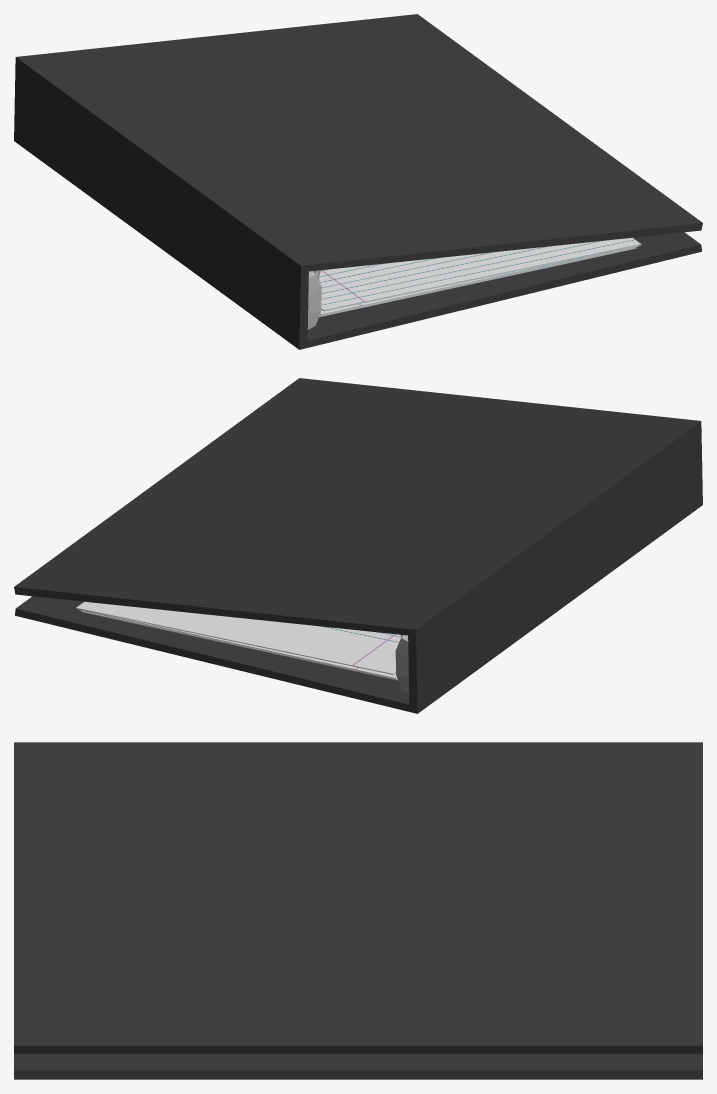
Rendered from Binder Black.fbx.
The picture shows the model from 3 angles, top to bottom: view 1: azimuth 30°, elevation 25°; view 2: azimuth 150°, elevation 25°; view 3: azimuth 270°, elevation 25°; orthographic projection. The views are drawn at different scales.
Parts seen in each view (by area): view 1: Binder Black, Paper.003, Paper.002, Binder Metal segment, Paper.001; view 2: Binder Black, Paper.003, Paper.002, Binder Metal segment, Paper.001; view 3: Binder Black.
Boxes of the visible parts, x1=… form: Binder Black: x1=14, y1=14, x2=702, y2=349; Paper.003: x1=312, y1=237, x2=641, y2=311; Paper.002: x1=318, y1=246, x2=638, y2=315; Binder Metal segment: x1=307, y1=271, x2=321, y2=329; Paper.001: x1=319, y1=247, x2=636, y2=317; Binder Black: x1=14, y1=378, x2=702, y2=713; Paper.003: x1=76, y1=601, x2=401, y2=674; Paper.002: x1=79, y1=609, x2=397, y2=679; Binder Metal segment: x1=395, y1=635, x2=409, y2=693; Paper.001: x1=81, y1=611, x2=397, y2=680; Binder Black: x1=14, y1=742, x2=702, y2=1079.
Bounding box in the file's own units: 0.5875 × 0.1164 × 0.7196.
Materials: 3 (1 with a texture image).
